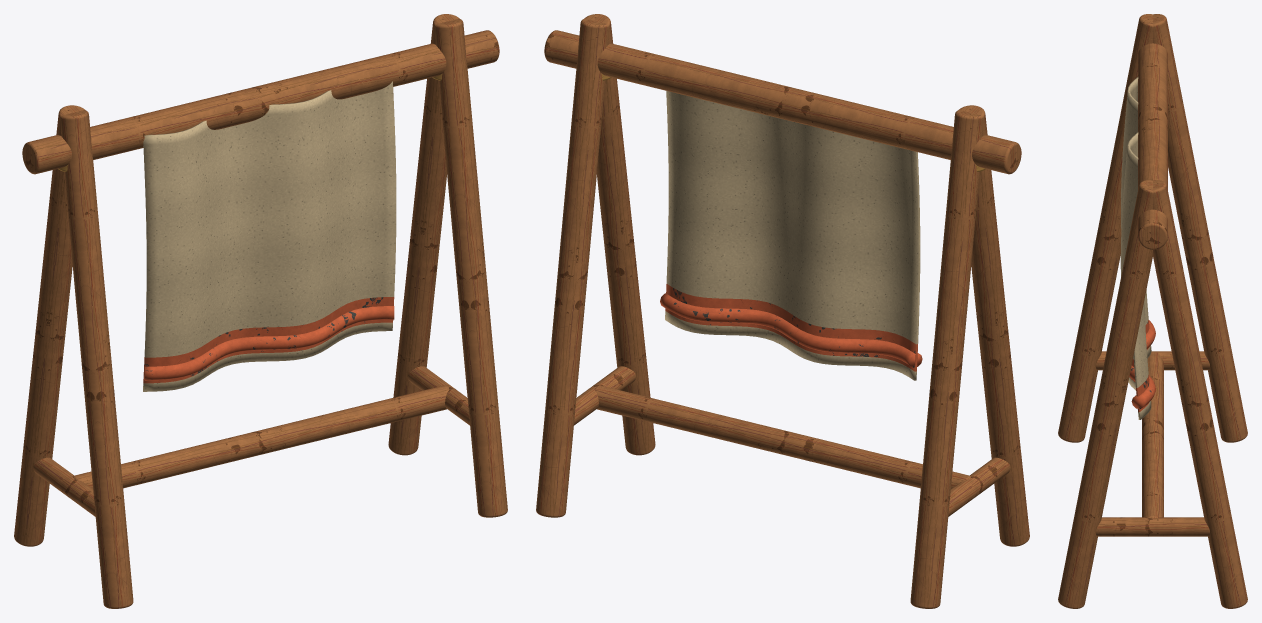
Rendered from S11_晾衣架_分享包版.glb.
The picture shows the model from 3 angles, left to right: view 1: azimuth 30°, elevation 25°; view 2: azimuth 150°, elevation 25°; view 3: azimuth 270°, elevation 25°; orthographic projection. The views are drawn at different scales.
Parts seen in each view (by area): view 1: Hanging ivory towel, Bamboo A-frame.002, Bamboo A-frame, Drying rail, Bamboo A-frame.001, Bamboo A-frame.003, Connected lower drying rail, Coral woven hem, Low side brace, Low side brace.001; view 2: Hanging ivory towel, Bamboo A-frame.003, Bamboo A-frame.001, Drying rail, Bamboo A-frame, Bamboo A-frame.002, Connected lower drying rail, Coral woven hem, Low side brace, Low side brace.001; view 3: Bamboo A-frame.002, Bamboo A-frame.003, Bamboo A-frame.001, Bamboo A-frame, Drying rail, Hanging ivory towel, Connected lower drying rail, Low side brace.001, Coral woven hem, Low side brace.
Part boxes in pixels (x1,y1,x2,y2): Hanging ivory towel: (143,81,396,391); Bamboo A-frame.002: (435,18,507,517); Bamboo A-frame: (60,110,133,608); Drying rail: (22,30,499,174); Bamboo A-frame.001: (14,105,84,546); Bamboo A-frame.003: (388,14,459,455); Connected lower drying rail: (72,385,449,488); Coral woven hem: (144,306,394,380); Low side brace: (33,457,95,516); Low side brace.001: (407,366,469,425); Hanging ivory towel: (665,91,920,380); Bamboo A-frame.003: (536,18,608,517); Bamboo A-frame.001: (910,110,983,608); Drying rail: (544,30,1021,174); Bamboo A-frame: (959,105,1029,546); Bamboo A-frame.002: (584,14,655,455); Connected lower drying rail: (594,385,971,488); Coral woven hem: (660,293,922,367); Low side brace: (948,457,1010,516); Low side brace.001: (574,366,636,425); Bamboo A-frame.002: (1058,180,1152,608); Bamboo A-frame.003: (1153,180,1247,608); Bamboo A-frame.001: (1153,14,1247,442); Bamboo A-frame: (1058,14,1152,442); Drying rail: (1138,43,1167,249); Hanging ivory towel: (1120,77,1151,419); Connected lower drying rail: (1142,352,1163,518); Low side brace.001: (1096,517,1209,536); Coral woven hem: (1129,320,1155,409); Low side brace: (1096,351,1209,370).
Bounding box in the file's own units: 1.78 × 1.7 × 0.695.
4 materials, 4 textured.
